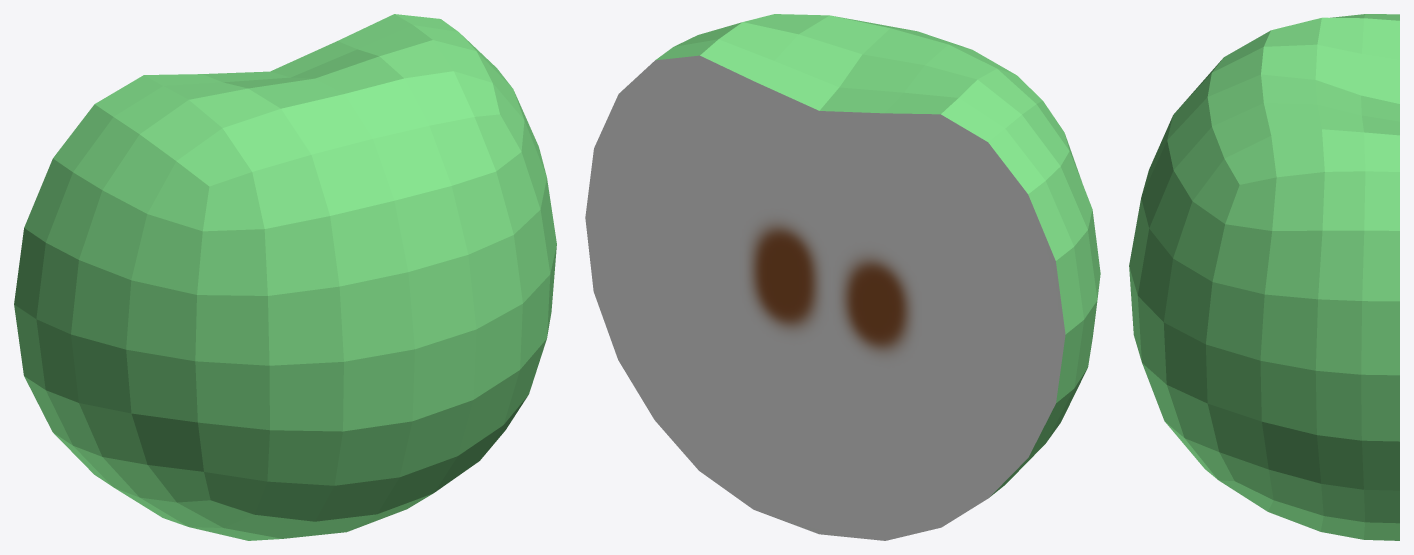
The model's file is apple2.glb.
3 views of the same model, side by side, from view 1: azimuth 30°, elevation 25°; view 2: azimuth 150°, elevation 25°; view 3: azimuth 270°, elevation 25° (orthographic). The views are drawn at different scales.
Visible parts, largest first — view 1: ApplePiece2; view 2: ApplePiece2; view 3: ApplePiece2.
Part boxes in pixels (left/top/right/bottom): ApplePiece2: left=14, top=14, right=556, bottom=540; ApplePiece2: left=585, top=14, right=1100, bottom=540; ApplePiece2: left=1129, top=14, right=1399, bottom=540.
Bounding box in the file's own units: 3.06 × 2.77 × 1.53.
1 material, 1 textured.
